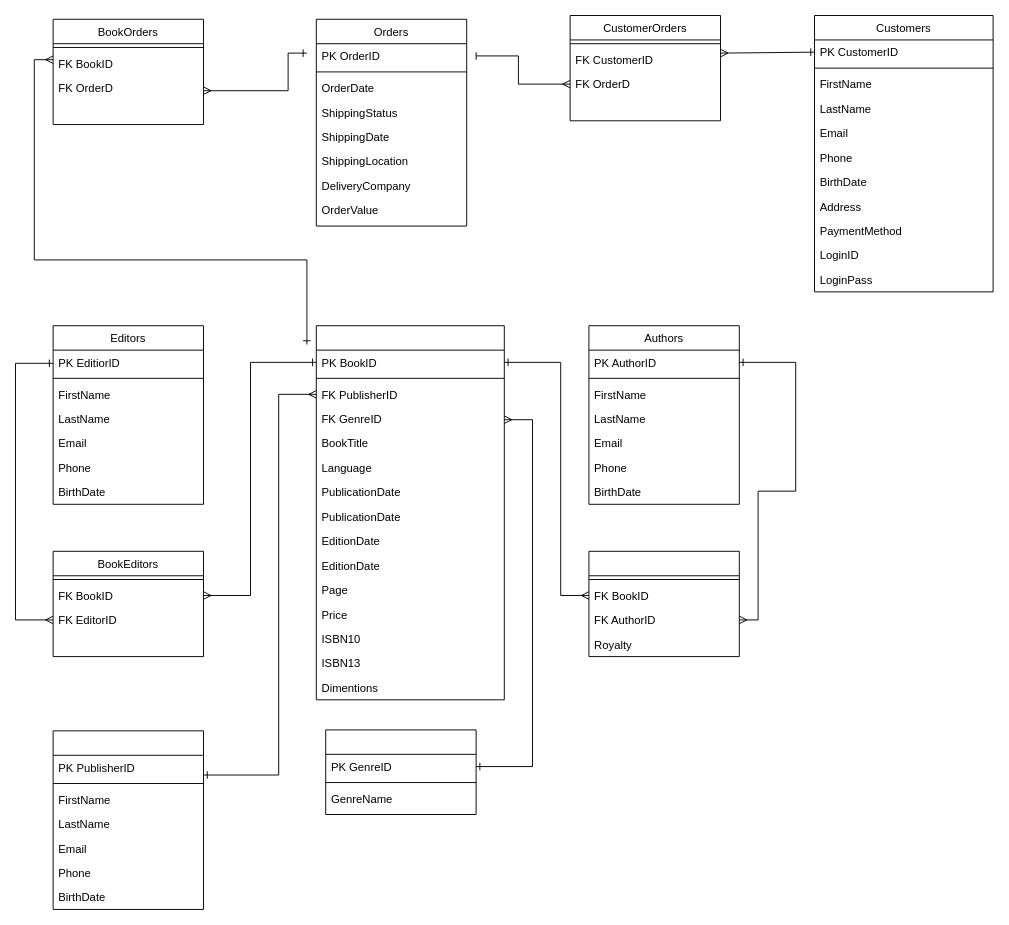
This 1009x925 diagram has some shape labels left out. The box of each missing label's shape, as (x1, y1, x2, y2) in pixels:
BookAuthors: (588, 550, 739, 657)
Books: (315, 325, 504, 700)
Genres: (325, 729, 476, 815)
Publihsers: (52, 730, 204, 909)
